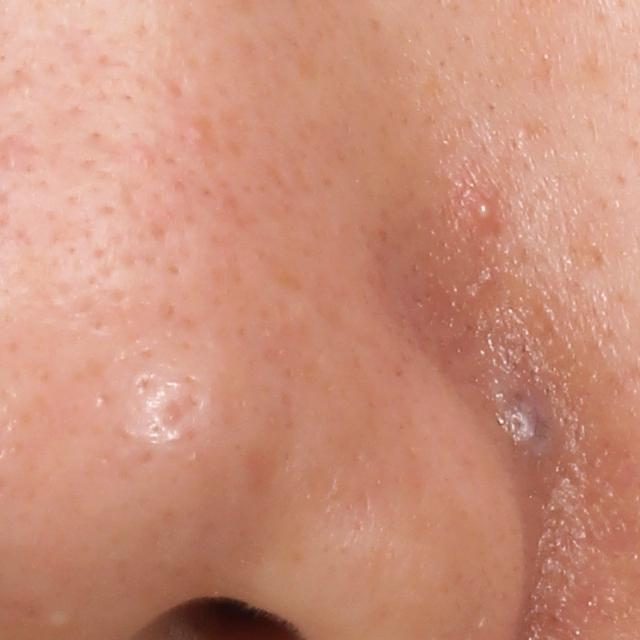comedo: (189, 123, 212, 143)
other: (482, 359, 572, 460), (39, 605, 81, 632)
pustule: (474, 196, 499, 229)
